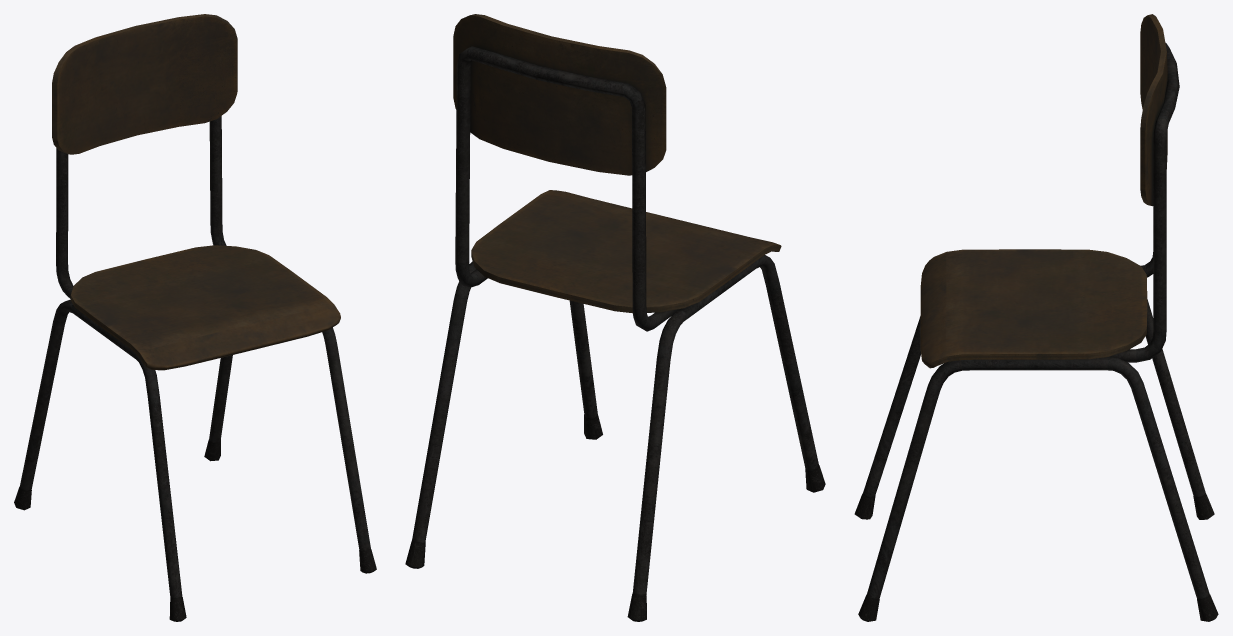
The picture shows the model from 3 angles, left to right: view 1: azimuth 30°, elevation 25°; view 2: azimuth 150°, elevation 25°; view 3: azimuth 270°, elevation 25°; orthographic projection. The views are drawn at different scales.
Parts seen in each view (by area): view 1: ChairSeat_low, ChairTop_low, Chair_Frame1_low, Chair_Frame2_low, Chair_Frame_low; view 2: ChairSeat_low, ChairTop_low, Chair_Frame_low, Chair_Frame1_low, Chair_Frame2_low; view 3: ChairSeat_low, Chair_Frame2_low, Chair_Frame_low, Chair_Frame1_low, ChairTop_low.
Part boxes in pixels (x1,y1,x2,y2): ChairSeat_low: (70,245,340,370); ChairTop_low: (52,14,237,154); Chair_Frame1_low: (19,299,182,599); Chair_Frame2_low: (209,327,370,551); Chair_Frame_low: (56,116,226,298); ChairSeat_low: (471,190,781,313); ChairTop_low: (453,14,666,175); Chair_Frame_low: (455,46,678,331); Chair_Frame1_low: (632,255,818,595); Chair_Frame2_low: (412,261,597,543); ChairSeat_low: (920,249,1147,368); Chair_Frame2_low: (866,357,1209,599); Chair_Frame_low: (1109,42,1179,362); Chair_Frame1_low: (862,299,1206,498); ChairTop_low: (1140,14,1167,206).
Size of the model in its own units: 0.3712 by 0.8089 by 0.515.
Materials: 1 (1 with a texture image).
